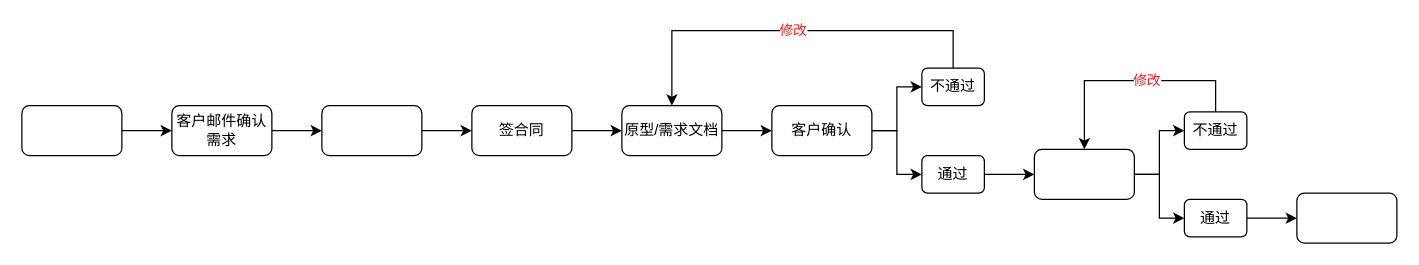
This 1419x265 diagram has some shape labels left out. Each missing label, with the centre of its shape:
"交付开发、测试" goes at point 1346,217.
"评估工作量" goes at point 371,130.
"需求评审" goes at point 1083,173.
"需求调研" goes at point 71,130.
